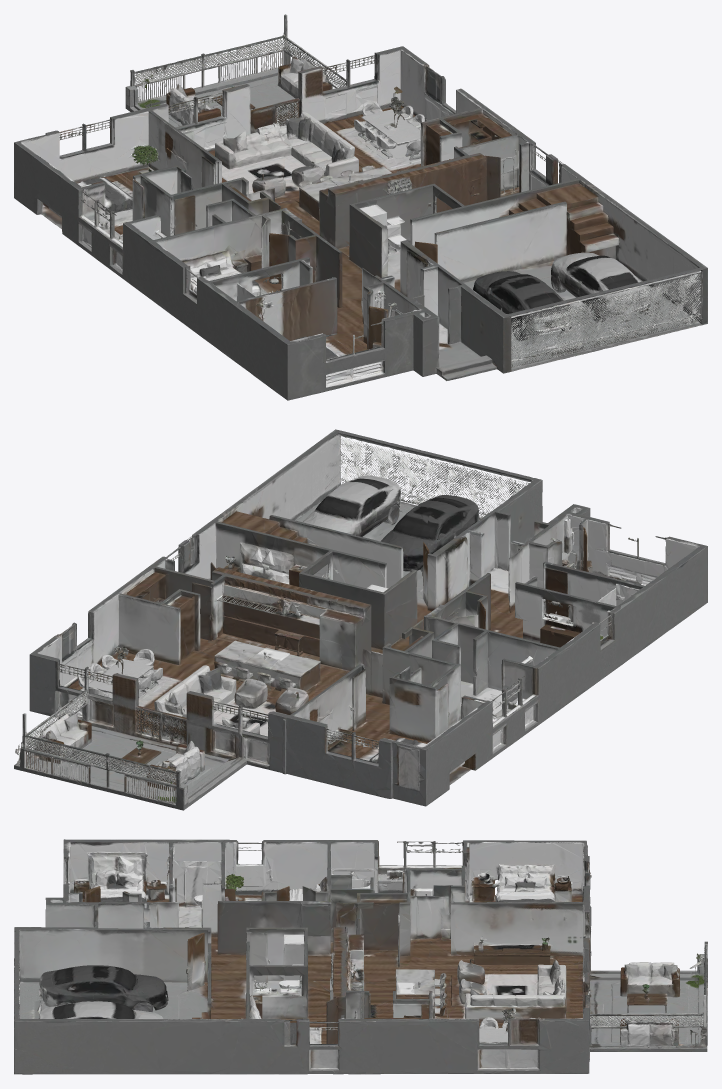
File: myrtle-0.glb
3 renders of one model, top to bottom at view 1: azimuth 30°, elevation 25°; view 2: azimuth 150°, elevation 25°; view 3: azimuth 270°, elevation 25°, orthographic. The views are drawn at different scales.
Parts seen in each view (by area): view 1: geometry_0; view 2: geometry_0; view 3: geometry_0.
Part boxes in pixels (bbox=[...]): geometry_0: bbox=[14, 14, 707, 400]; geometry_0: bbox=[14, 429, 707, 810]; geometry_0: bbox=[14, 839, 707, 1074].
Size of the model in its own units: 21.58 by 2.99 by 34.74.
1 material, 1 textured.
